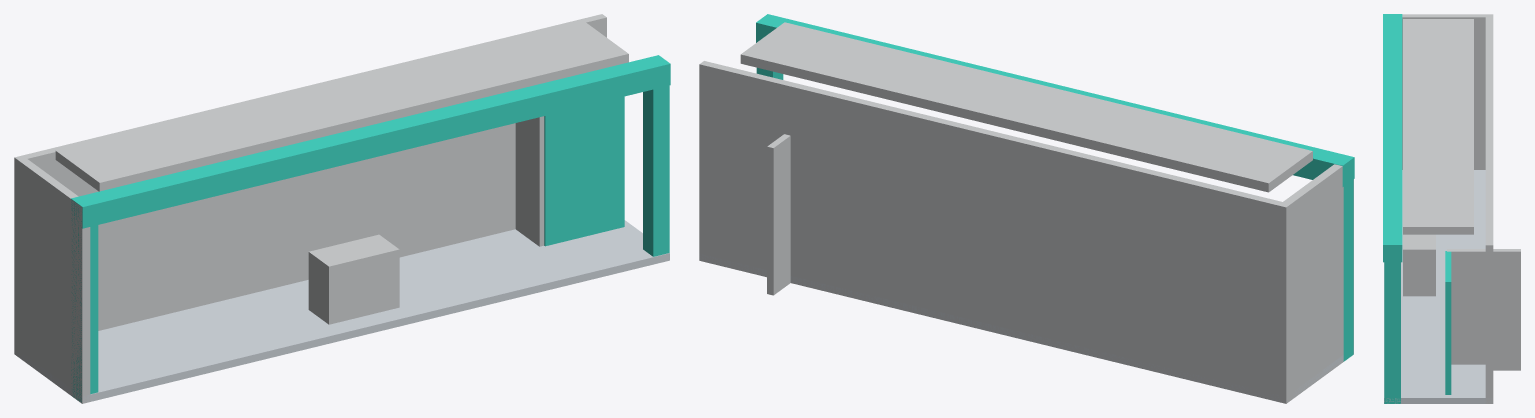
3 views of the same model, side by side, from view 1: azimuth 30°, elevation 25°; view 2: azimuth 150°, elevation 25°; view 3: azimuth 270°, elevation 25° (orthographic). The views are drawn at different scales.
Parts seen in each view (by area): view 1: Exhibition Booth Concept; view 2: Exhibition Booth Concept; view 3: Exhibition Booth Concept.
Part boxes in pixels (x1,y1,x2,y2): Exhibition Booth Concept: (14, 14, 670, 403); Exhibition Booth Concept: (699, 14, 1354, 403); Exhibition Booth Concept: (1383, 14, 1520, 403).
Bounding box in the file's own units: 10 × 3.34 × 2.52.
